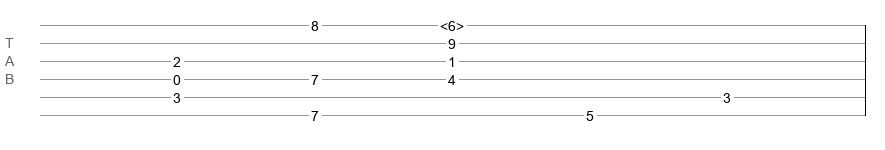0: (173, 72, 181, 82)
1: (448, 54, 456, 64)
2: (173, 54, 181, 64)
3: (173, 90, 181, 100), (723, 90, 731, 100)
4: (448, 72, 456, 82)
5: (586, 108, 594, 118)
7: (311, 72, 319, 82), (311, 108, 319, 118)
8: (311, 18, 319, 28)
9: (448, 36, 456, 46)
harmonic: (440, 18, 464, 28)
